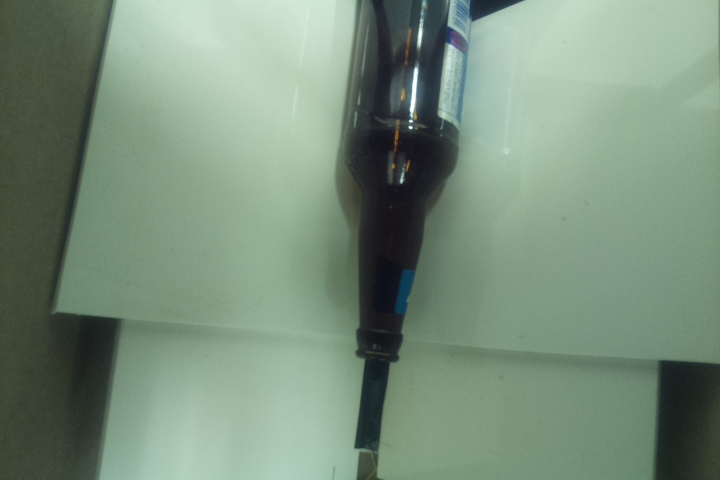makju: (335, 1, 471, 366)
